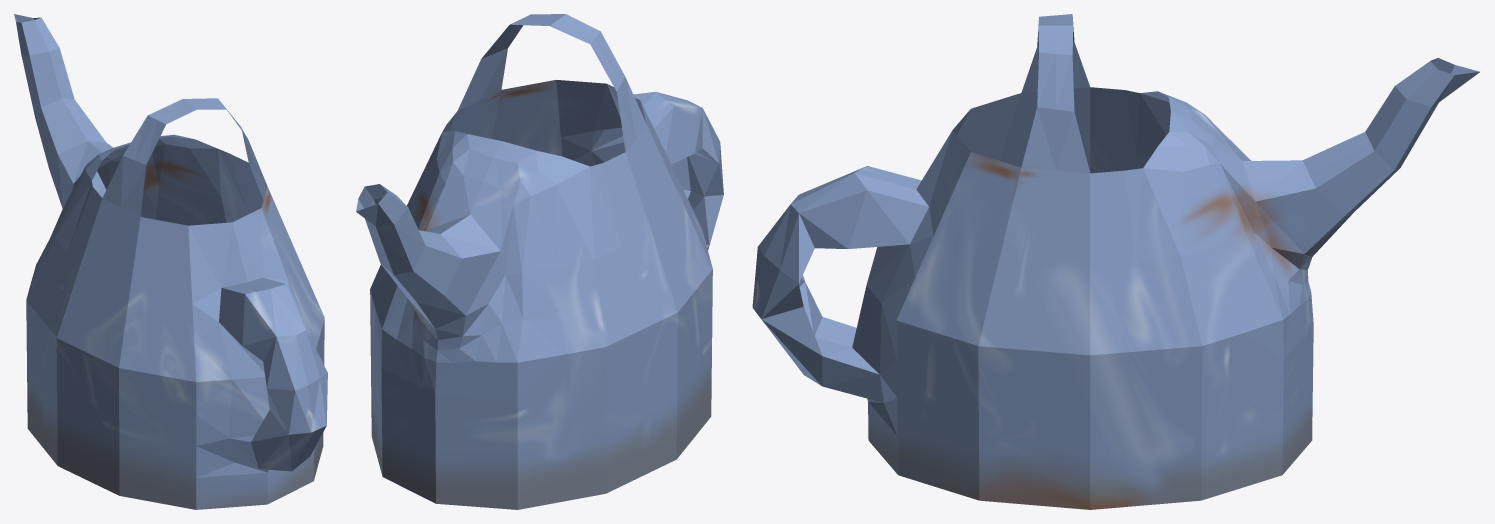
The model's file is Arrosoir.fbx.
3 views of the same model, side by side, from view 1: azimuth 30°, elevation 25°; view 2: azimuth 150°, elevation 25°; view 3: azimuth 270°, elevation 25° (orthographic). The views are drawn at different scales.
Parts seen in each view (by area): view 1: Cylinder; view 2: Cylinder; view 3: Cylinder.
Boxes of the visible parts, bbox=[...] form: Cylinder: bbox=[14, 14, 327, 509]; Cylinder: bbox=[356, 14, 723, 509]; Cylinder: bbox=[752, 14, 1479, 509].
Size of the model in its own units: 117 by 162 by 258.
Materials: 1 (1 with a texture image).
